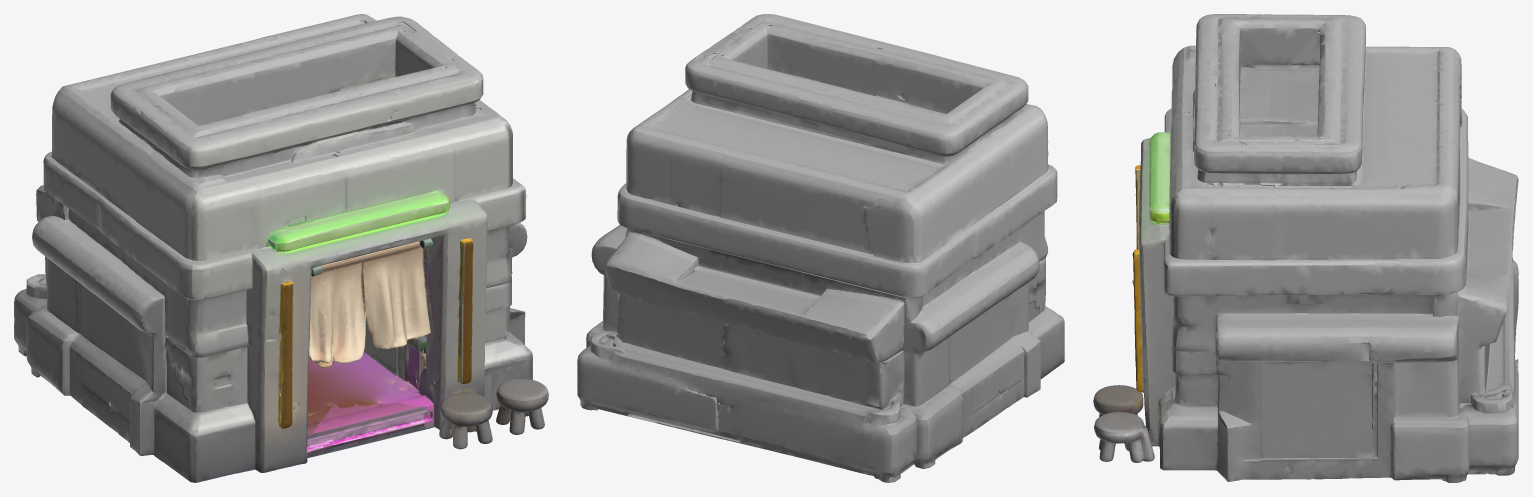
File: u_bld_noodle_shop.glb
3 views of the same model, side by side, from view 1: azimuth 30°, elevation 25°; view 2: azimuth 150°, elevation 25°; view 3: azimuth 270°, elevation 25° (orthographic). The views are drawn at different scales.
Visible parts, largest first — view 1: geometry_0; view 2: geometry_0; view 3: geometry_0.
Boxes of the visible parts, x1,y1,x2,y2 form: geometry_0: (14, 14, 548, 482); geometry_0: (577, 14, 1064, 482); geometry_0: (1093, 14, 1518, 482).
Size of the model in its own units: 0.12 by 0.0978 by 0.1198.
1 material, 1 textured.
